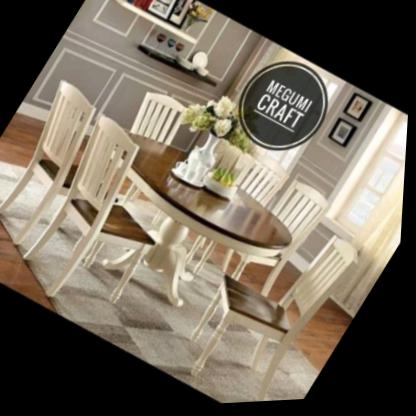Dining Table: (0, 33, 414, 416)
